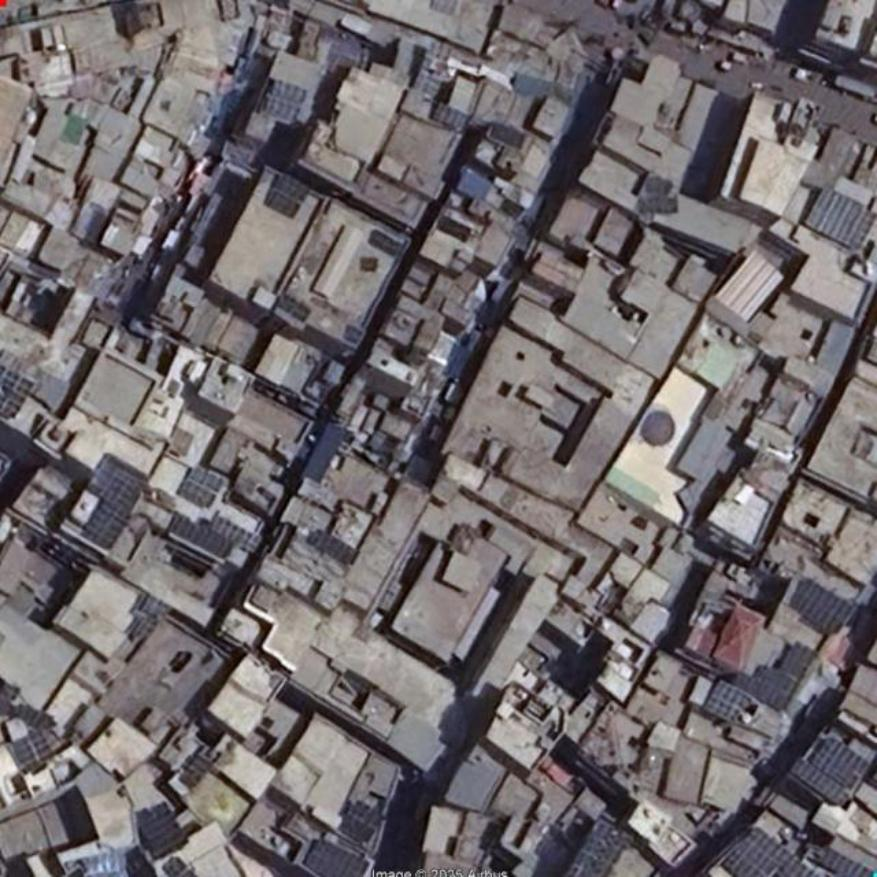Solarpanel: (731, 624, 818, 713), (793, 736, 869, 808), (718, 824, 823, 876), (84, 469, 147, 551), (805, 186, 876, 250), (791, 580, 854, 634), (168, 514, 234, 560), (300, 839, 369, 876), (263, 171, 310, 220), (707, 681, 751, 724), (264, 78, 305, 124), (208, 515, 258, 552), (0, 363, 33, 419), (342, 800, 384, 843), (179, 467, 222, 508), (311, 530, 357, 566), (820, 849, 876, 876), (12, 738, 38, 770), (30, 730, 55, 760)
